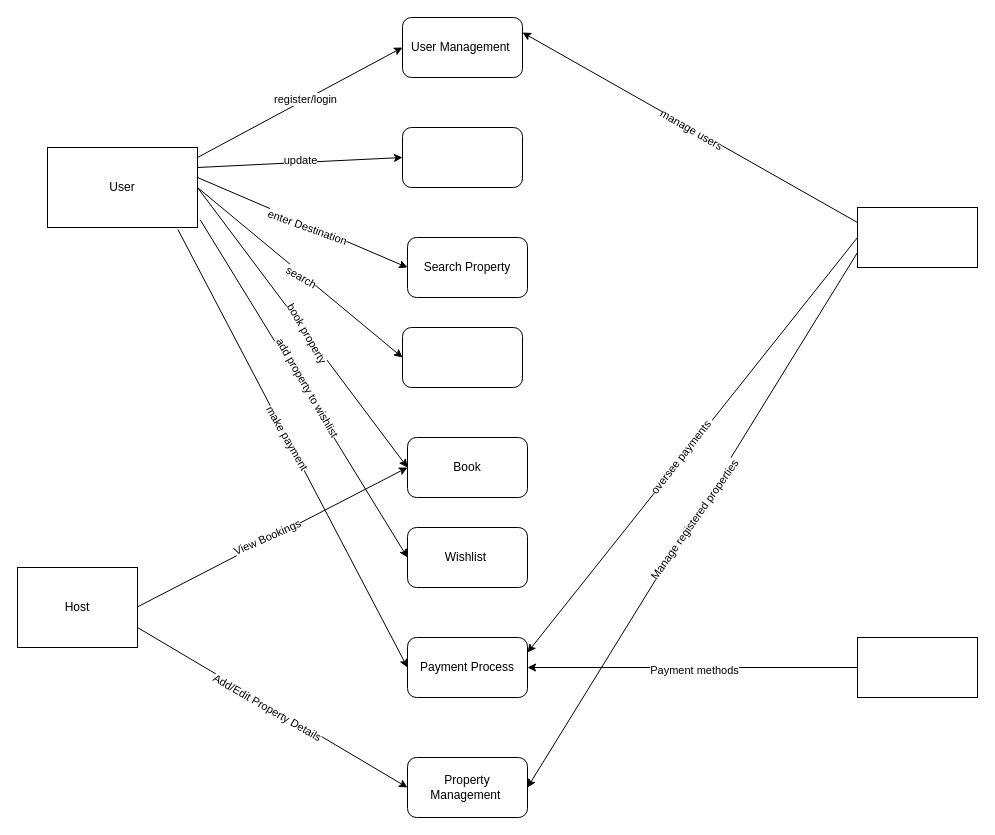
This 995x835 diagram has some shape labels left out. Each missing label, with the centre of its shape:
"Admin" belongs at [917,237].
"Filter Property" belongs at [462,357].
"Payment Gateway" belongs at [917,667].
"Update Profile" belongs at [462,157].
